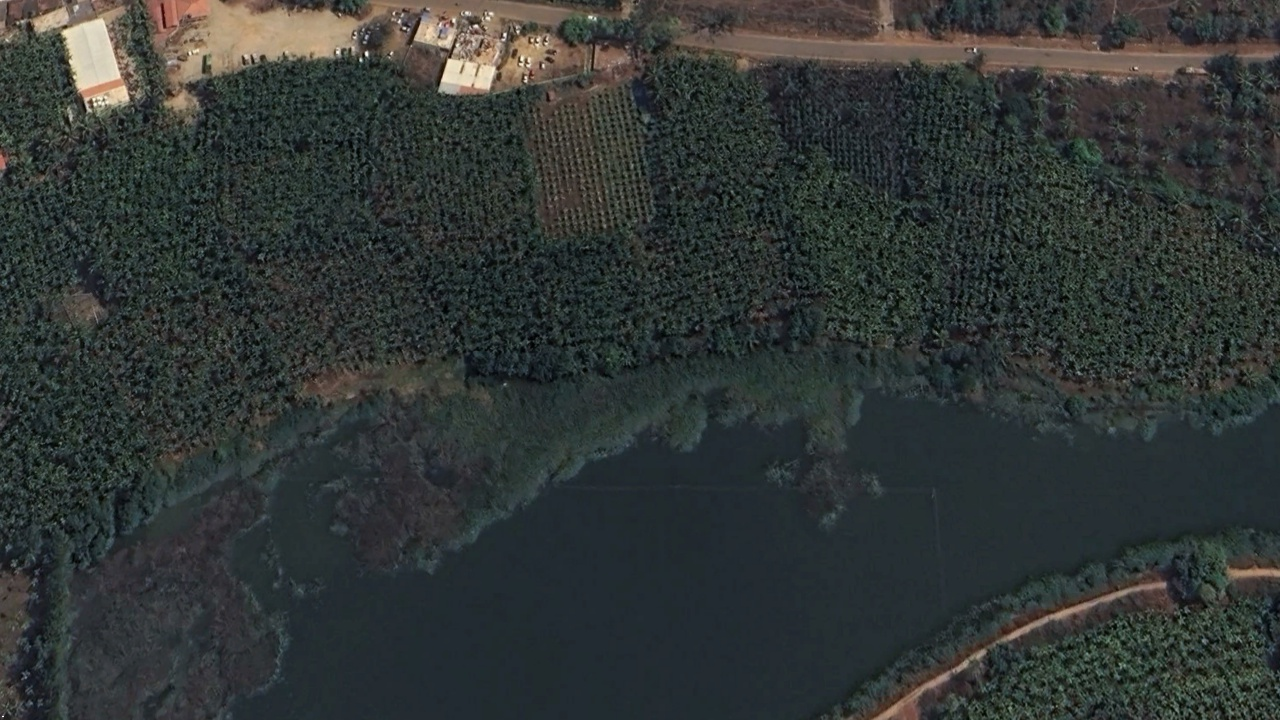arecanut: (6, 139, 1266, 382), (1001, 635, 1280, 717)
